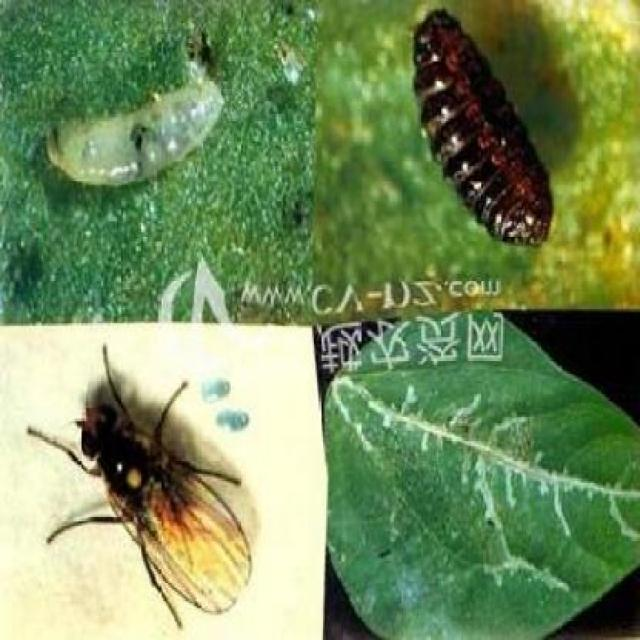whorl-maggot: (397, 4, 572, 250), (36, 66, 244, 191)
